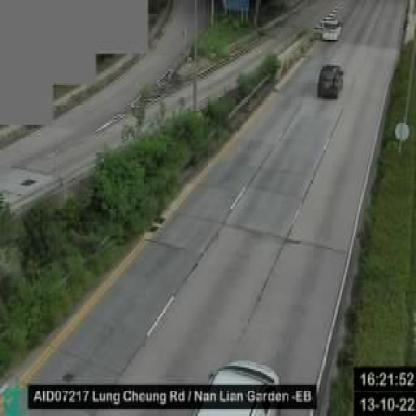Car: (193, 353, 280, 416), (318, 63, 344, 98), (321, 15, 341, 41)
